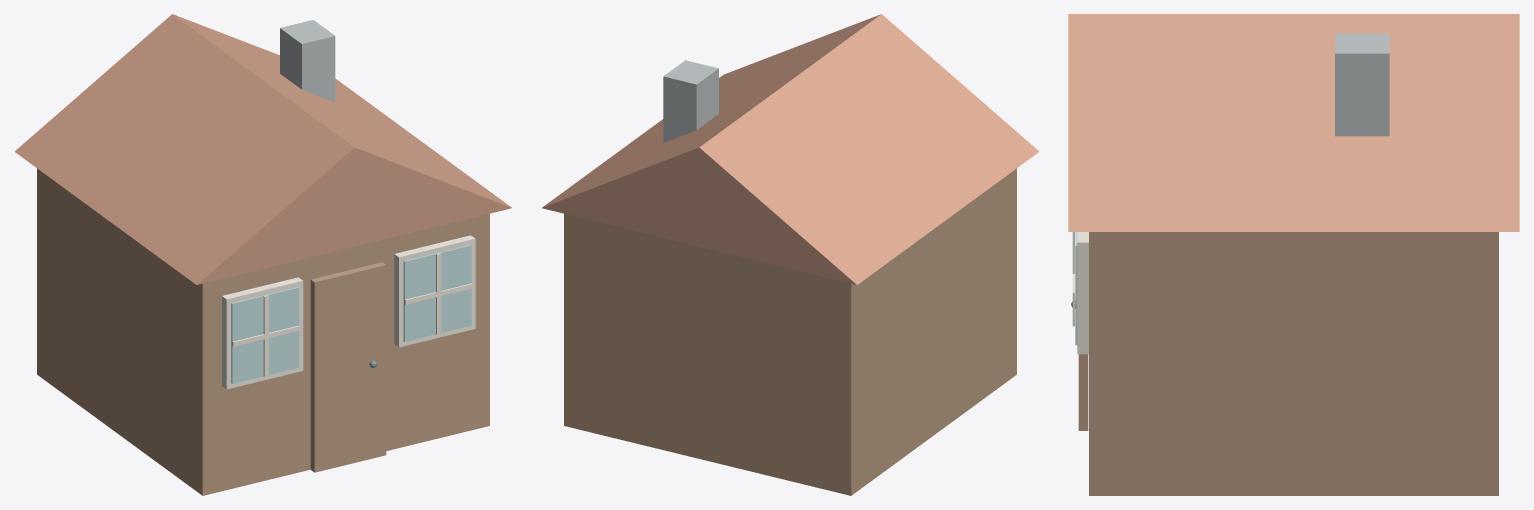
The model's file is cabin.glb.
3 renders of one model, left to right at view 1: azimuth 30°, elevation 25°; view 2: azimuth 150°, elevation 25°; view 3: azimuth 270°, elevation 25°, orthographic. The views are drawn at different scales.
Parts seen in each view (by area): view 1: cabin_001, cabin_000, cabin_002, cabin_009, cabin_005, cabin_012, cabin_008, cabin_004; view 2: cabin_000, cabin_001, cabin_012; view 3: cabin_000, cabin_001, cabin_012, cabin_008, cabin_002.
Part boxes in pixels (<box>): cabin_001: <box>14,14,511,284</box>; cabin_000: <box>37,168,489,495</box>; cabin_002: <box>310,262,386,472</box>; cabin_009: <box>403,245,471,341</box>; cabin_005: <box>231,287,299,383</box>; cabin_012: <box>280,20,335,102</box>; cabin_008: <box>394,235,475,347</box>; cabin_004: <box>222,277,303,389</box>; cabin_000: <box>564,168,1016,495</box>; cabin_001: <box>542,14,1039,284</box>; cabin_012: <box>663,60,718,142</box>; cabin_000: <box>1089,232,1498,495</box>; cabin_001: <box>1068,14,1519,231</box>; cabin_012: <box>1335,33,1389,136</box>; cabin_008: <box>1077,232,1088,354</box>; cabin_002: <box>1078,354,1088,430</box>.
Size of the model in its own units: 3.3 by 3.3 by 3.3.
